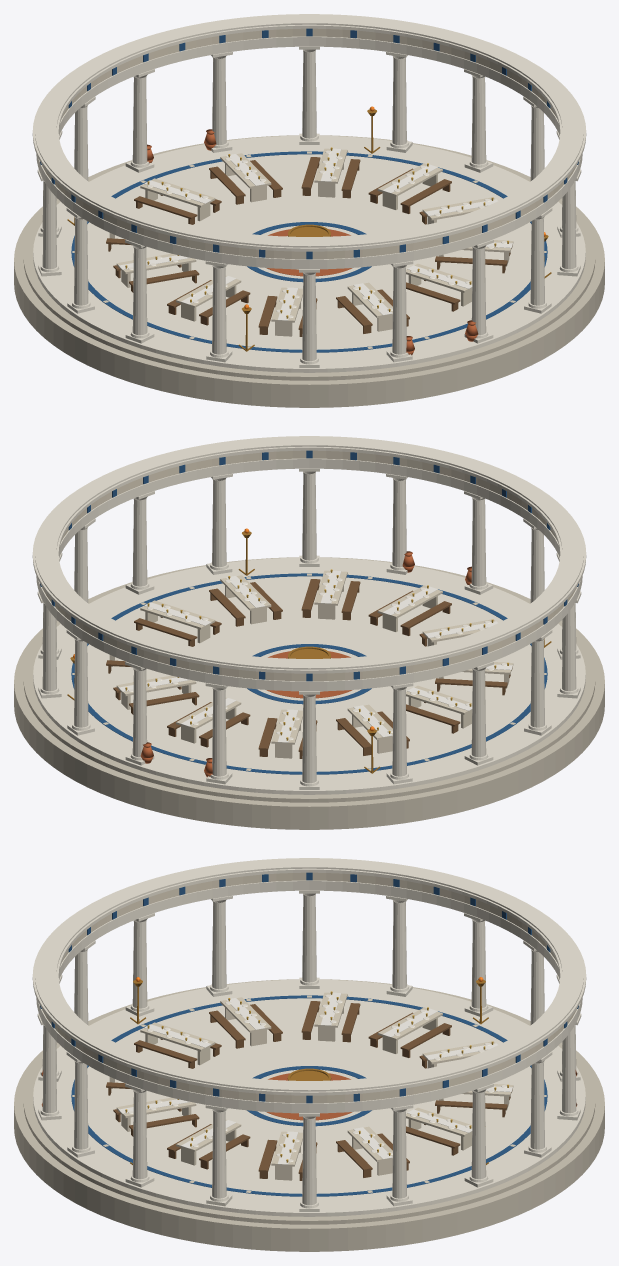
File: pavilion.glb
The picture shows the model from 3 angles, top to bottom: view 1: azimuth 30°, elevation 25°; view 2: azimuth 150°, elevation 25°; view 3: azimuth 270°, elevation 25°; orthographic projection.
Parts seen in each view (by area): view 1: PLATFORM, ENTABLATURE, FLOOR_inlay, TABLE_09, TABLE_10, TABLE_11, TABLE_08, TABLE_03, TABLE_04, TABLE_02, TABLE_05, COLUMN_11 (+18 smaller); view 2: PLATFORM, ENTABLATURE, FLOOR_inlay, TABLE_01, TABLE_02, TABLE_03, TABLE_00, TABLE_07, TABLE_08, TABLE_06, TABLE_09, COLUMN_07 (+18 smaller); view 3: PLATFORM, ENTABLATURE, FLOOR_inlay, TABLE_05, TABLE_06, TABLE_07, TABLE_04, TABLE_11, TABLE_00, TABLE_10, TABLE_01, COLUMN_01 (+18 smaller).
Boxes of the visible parts, box(x1,y1,x2,y2) form: PLATFORM: box(14, 135, 604, 407); ENTABLATURE: box(32, 14, 586, 269); FLOOR_inlay: box(71, 151, 547, 352); TABLE_09: box(209, 153, 282, 204); TABLE_10: box(301, 147, 360, 198); TABLE_11: box(368, 163, 451, 213); TABLE_08: box(134, 178, 221, 224); TABLE_03: box(336, 282, 409, 333); TABLE_04: box(258, 287, 317, 336); TABLE_02: box(406, 263, 472, 311); TABLE_05: box(167, 275, 250, 325); COLUMN_11: box(205, 261, 232, 362); PLATFORM: box(14, 557, 604, 829); ENTABLATURE: box(32, 436, 586, 691); FLOOR_inlay: box(71, 573, 547, 774); TABLE_01: box(209, 575, 282, 626); TABLE_02: box(301, 569, 360, 620); TABLE_03: box(368, 585, 451, 635); TABLE_00: box(134, 600, 221, 646); TABLE_07: box(336, 704, 409, 755); TABLE_08: box(258, 709, 317, 758); TABLE_06: box(406, 685, 472, 733); TABLE_09: box(167, 697, 250, 747); COLUMN_07: box(386, 683, 413, 784); PLATFORM: box(14, 979, 604, 1251); ENTABLATURE: box(32, 858, 586, 1113); FLOOR_inlay: box(71, 995, 547, 1196); TABLE_05: box(209, 997, 282, 1048); TABLE_06: box(301, 991, 360, 1042); TABLE_07: box(368, 1007, 451, 1057); TABLE_04: box(134, 1022, 221, 1068); TABLE_11: box(336, 1126, 409, 1177); TABLE_00: box(258, 1131, 317, 1180); TABLE_10: box(406, 1107, 472, 1155); TABLE_01: box(167, 1119, 250, 1169); COLUMN_01: box(386, 1105, 413, 1206).
Size of what is drawn, in the model's own units: 27.8 by 7.94 by 27.8.
